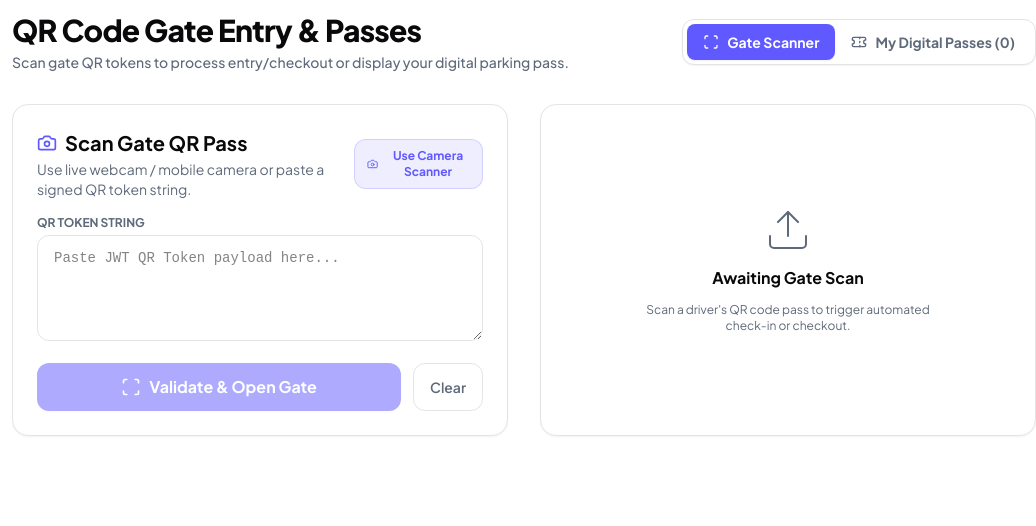
Scenario: QrScannerPage Component › toggles camera scanner control
Click the button "Use Camera Scanner".
click(418, 164)  # box top-left (354, 139), bottom-right (483, 189)
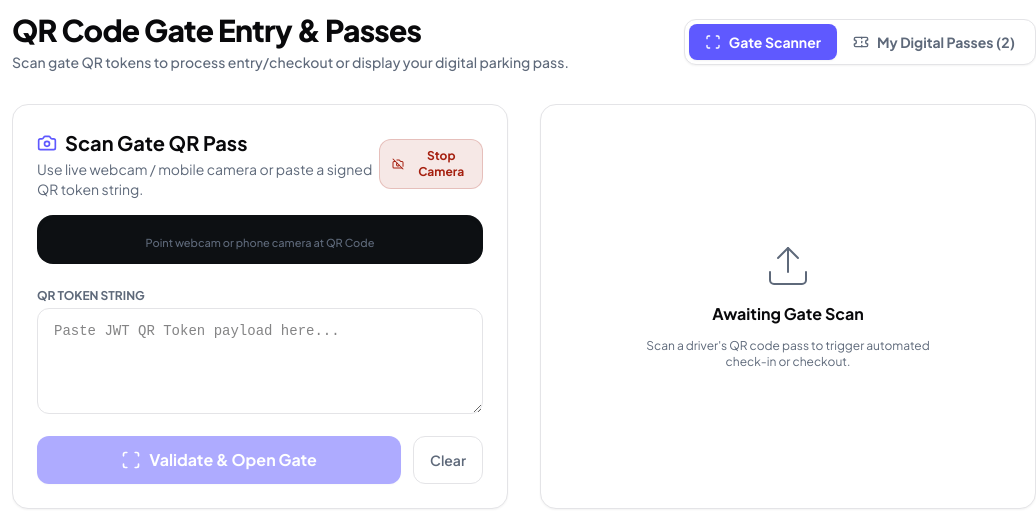
Now the button "Stop Camera" is shown, box top-left (379, 139), bottom-right (483, 189)
